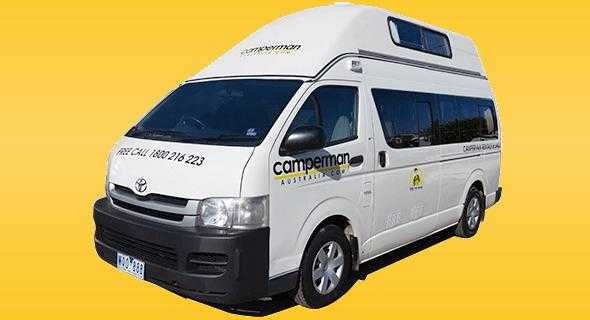van: (93, 3, 502, 309)
